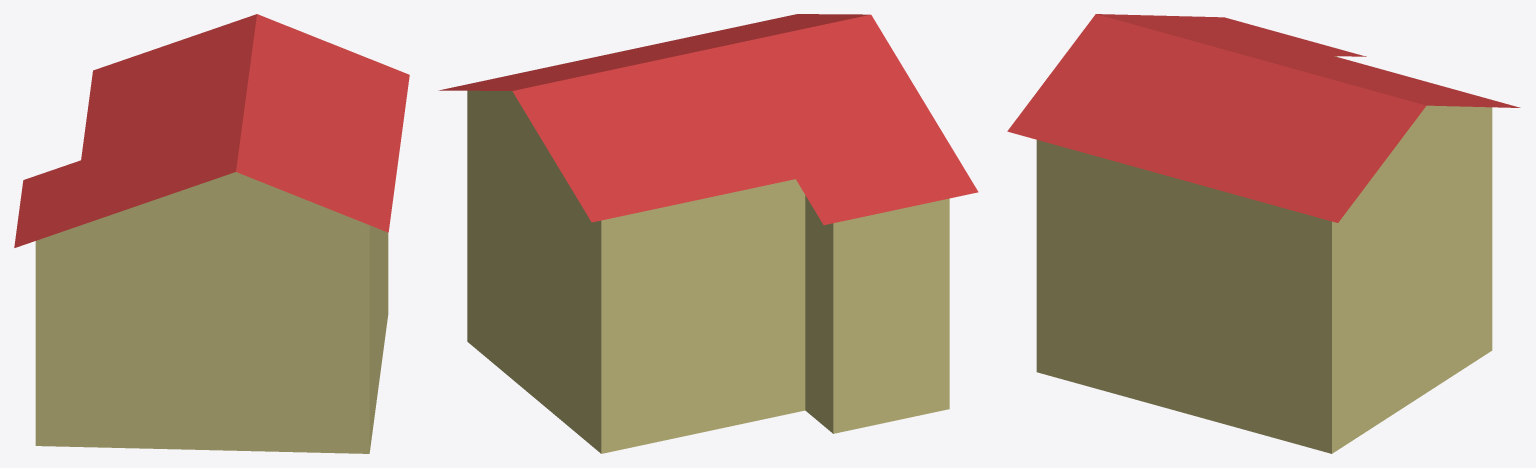
3 renders of one model, left to right at view 1: azimuth 30°, elevation 25°; view 2: azimuth 150°, elevation 25°; view 3: azimuth 270°, elevation 25°, orthographic. The views are drawn at different scales.
Parts seen in each view (by area): view 1: group_5, group_3, group_4; view 2: group_5, group_3, group_4; view 3: group_5, group_3, group_4.
Boxes of the visible parts, <box> form: group_5: <box>35,172,388,453</box>; group_3: <box>15,14,388,247</box>; group_4: <box>14,14,409,247</box>; group_5: <box>467,90,949,453</box>; group_3: <box>469,14,978,222</box>; group_4: <box>438,14,977,224</box>; group_5: <box>1036,56,1492,453</box>; group_3: <box>1037,14,1520,202</box>; group_4: <box>1007,14,1430,222</box>.
Bounding box in the file's own units: 19.27 × 18.08 × 11.78.
